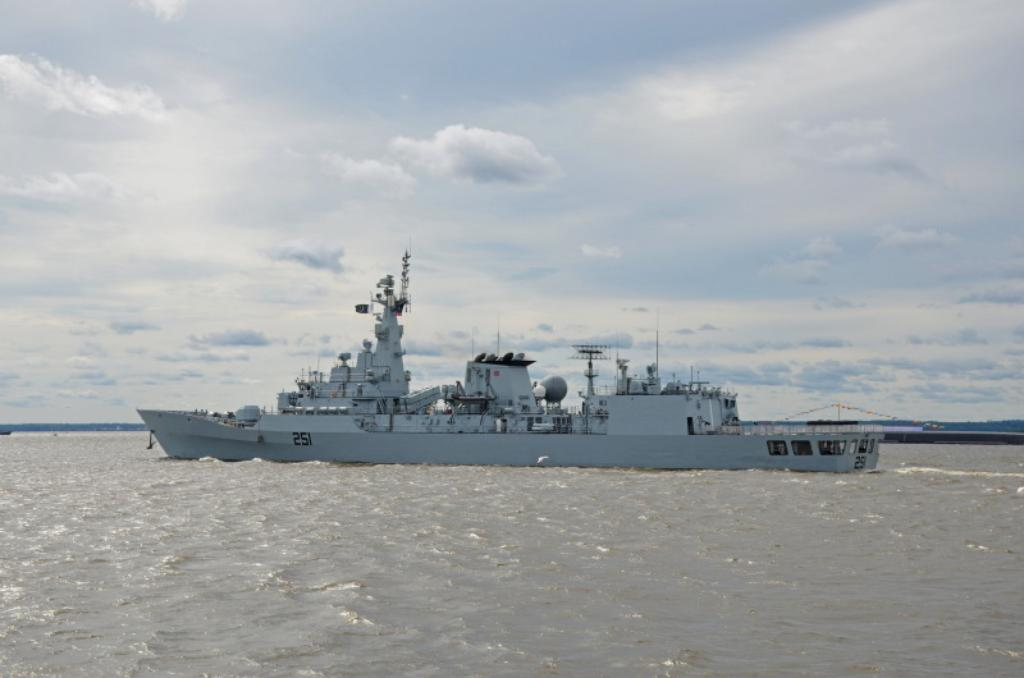Warship: (138, 247, 890, 477)
